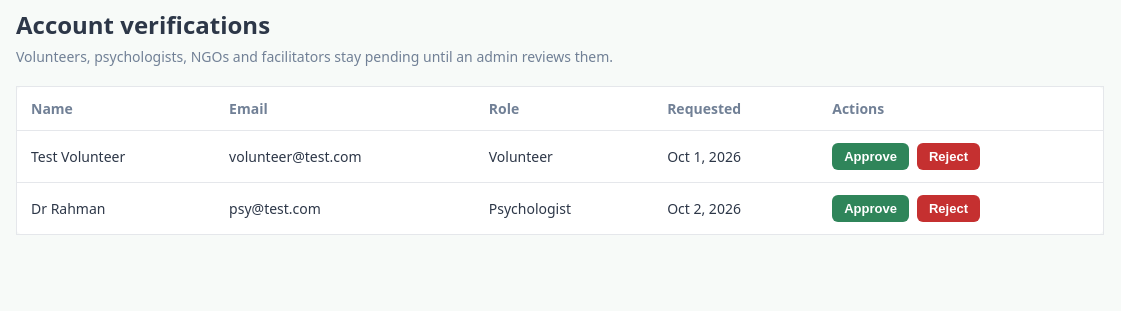
it: Verifications page › requires a reason before rejecting
Expected: the text "Test Volunteer" is shown, [16, 130, 215, 182]
Step 1. Click the button "Reject" in the row of "Test Volunteer" → (948, 156), box [917, 143, 980, 170]
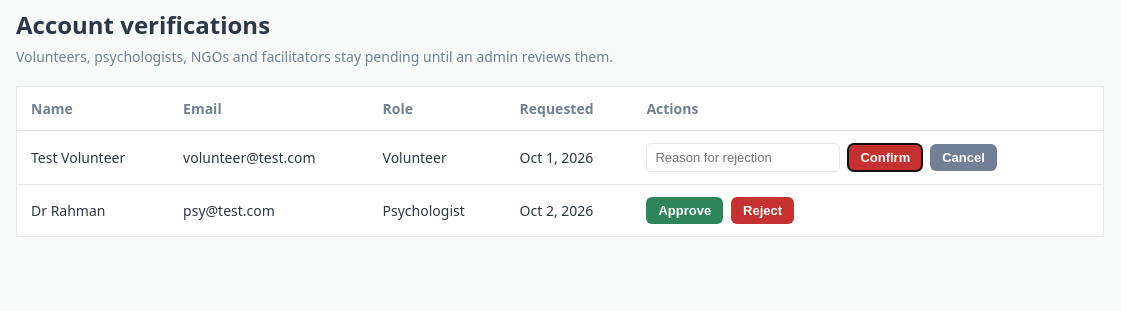
Step 2. Click the button "Confirm" → (885, 158), box [848, 144, 922, 171]
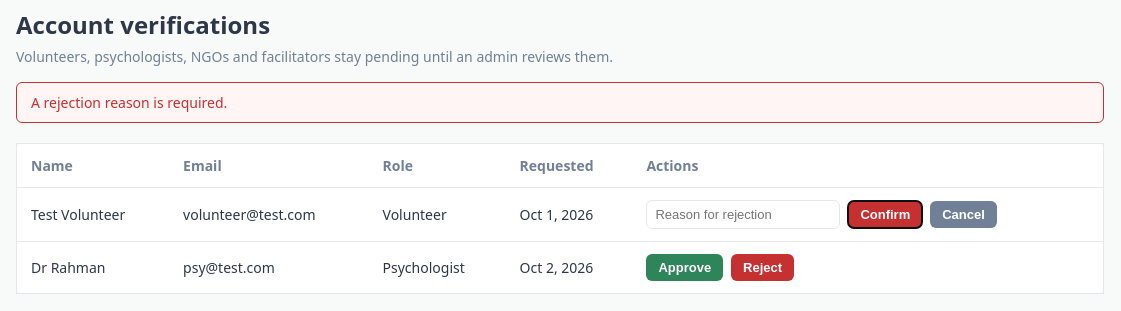
Expected: the text "Test Volunteer" is shown, [16, 188, 169, 242]
Result: the text with test id "verifications-error" reads "A rejection reason is required." at [31, 93, 227, 112]
